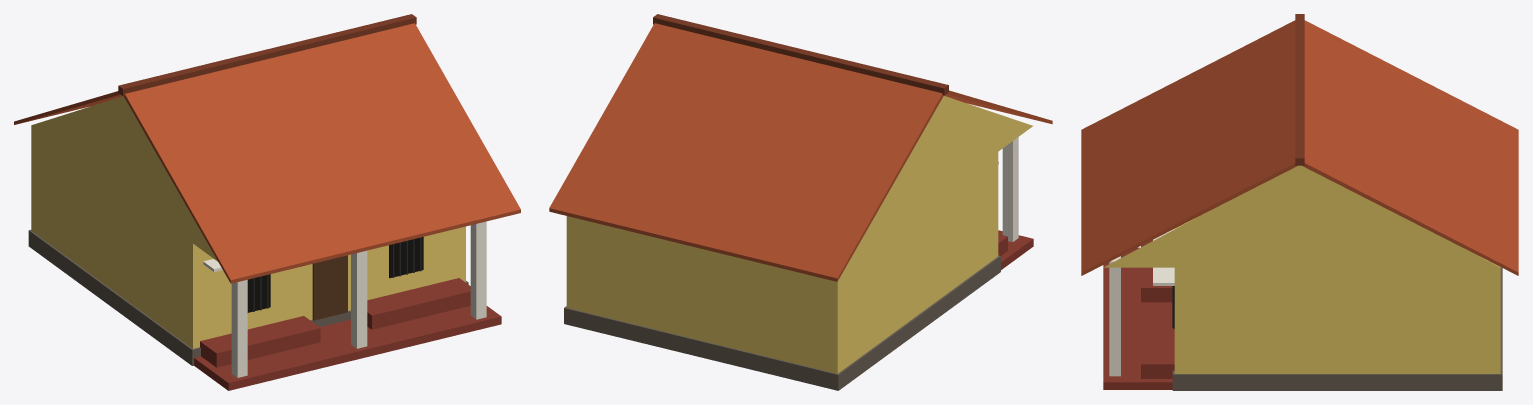
File: bld_ot_house_03.glb
The picture shows the model from 3 angles, left to right: view 1: azimuth 30°, elevation 25°; view 2: azimuth 150°, elevation 25°; view 3: azimuth 270°, elevation 25°; orthographic projection.
Parts seen in each view (by area): view 1: bld_ot_house_03; view 2: bld_ot_house_03; view 3: bld_ot_house_03.
Boxes of the visible parts, x1=… form: bld_ot_house_03: x1=14, y1=14, x2=520, y2=390; bld_ot_house_03: x1=549, y1=14, x2=1052, y2=390; bld_ot_house_03: x1=1081, y1=14, x2=1518, y2=390.
Size of what is drawn, in the model's own units: 8.6 by 6.57 by 11.
